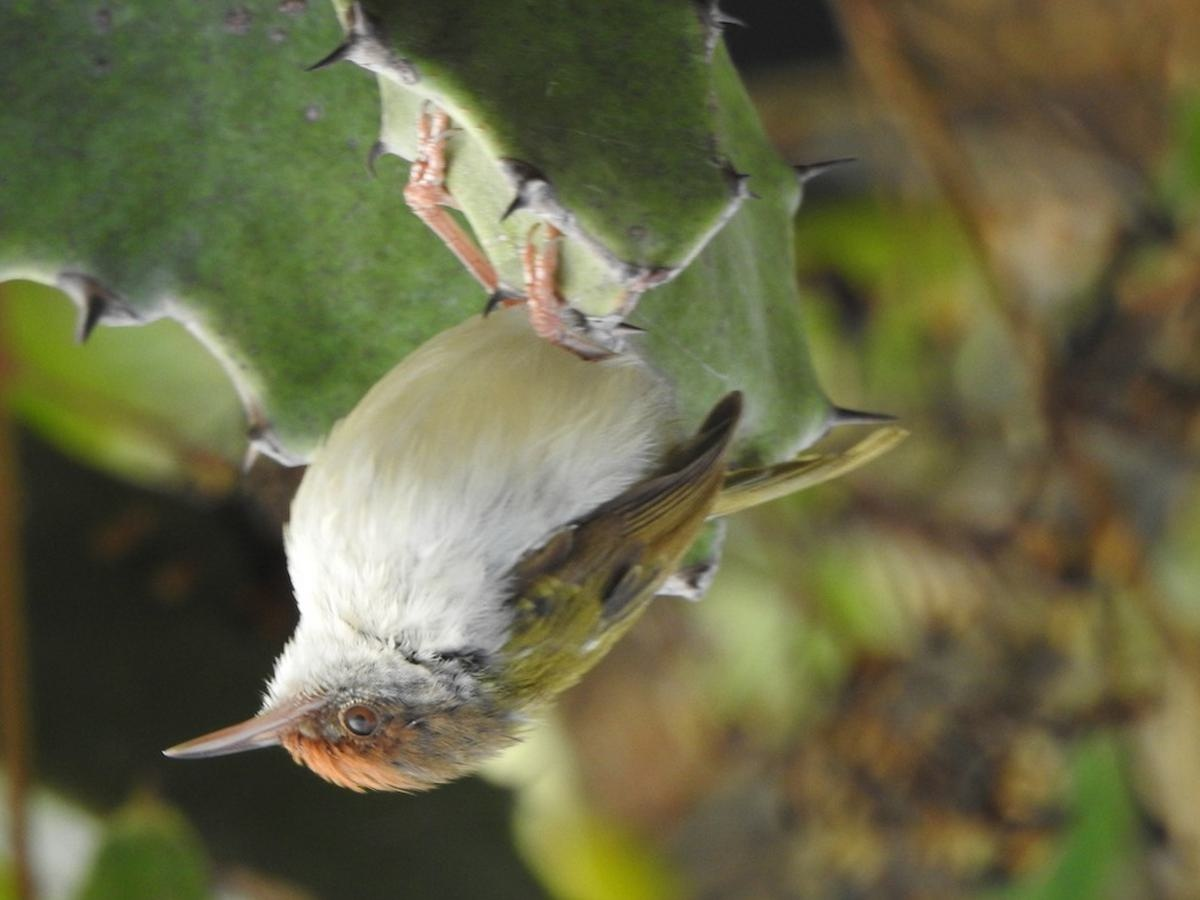tailorbird: (98, 158, 883, 852)
